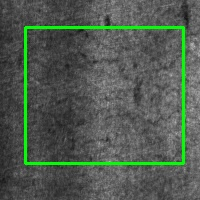crazing: (25, 27, 183, 163)
